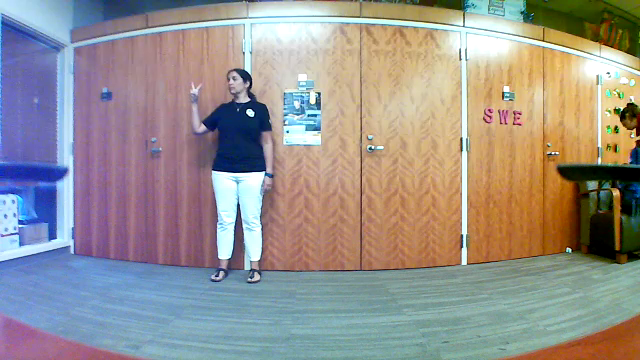peace: (185, 78, 207, 107)
